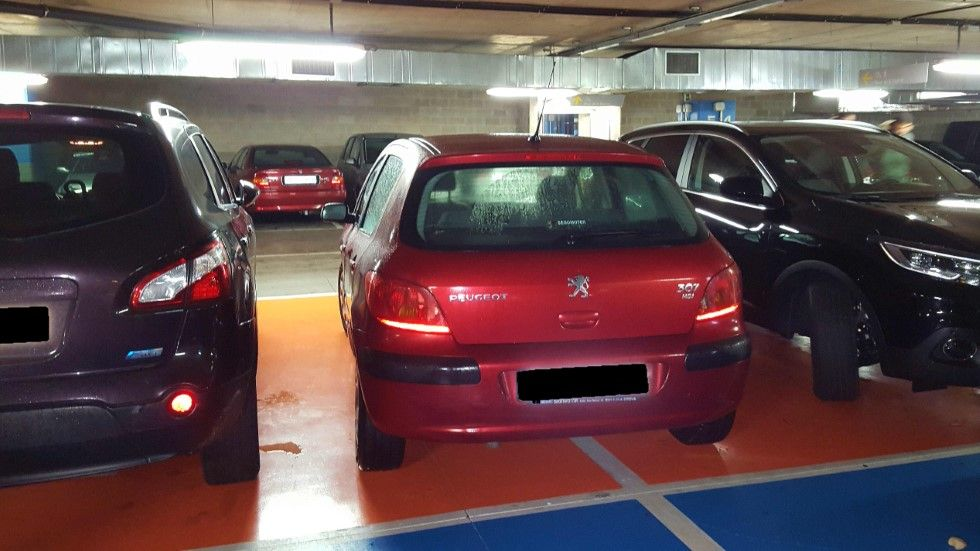car: (336, 129, 733, 481), (2, 96, 272, 516), (610, 119, 976, 418), (220, 140, 346, 216), (336, 128, 387, 203)
